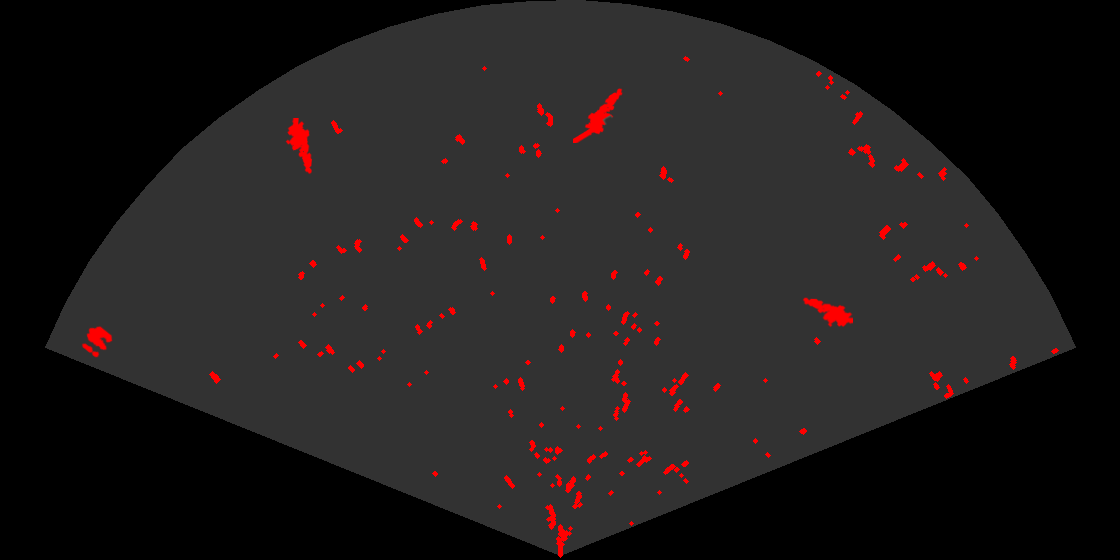ball: (80, 324, 114, 359)
frogman: (573, 87, 624, 143), (801, 296, 853, 329), (284, 118, 314, 175)
